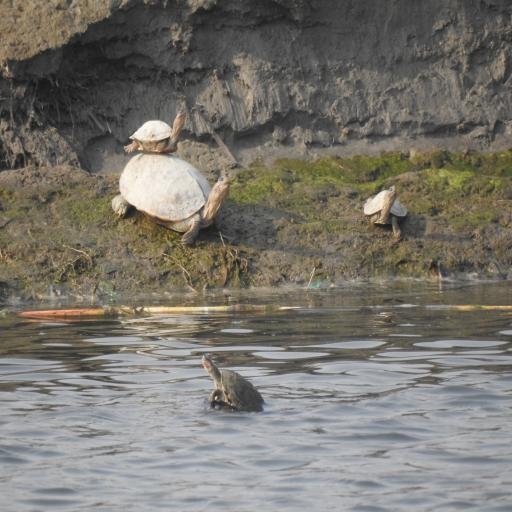turtle: (108, 144, 248, 237), (200, 349, 266, 415), (123, 100, 192, 153), (366, 174, 408, 238)
